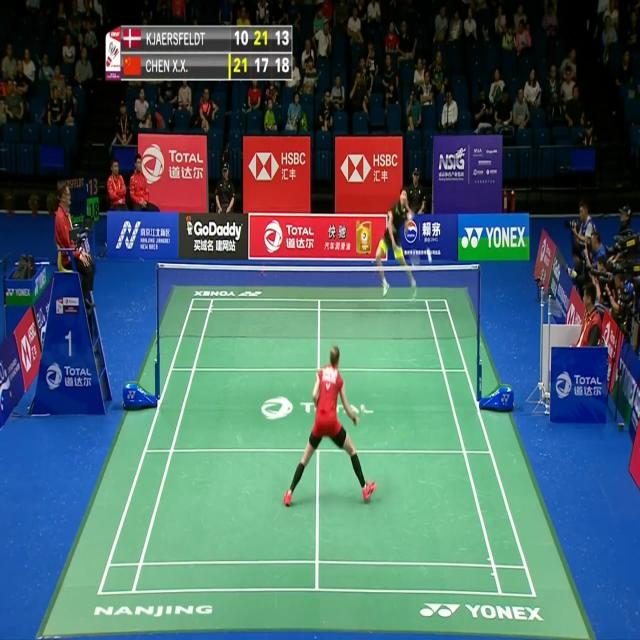Player1: (282, 340, 379, 510)
Player2: (372, 180, 421, 308)
